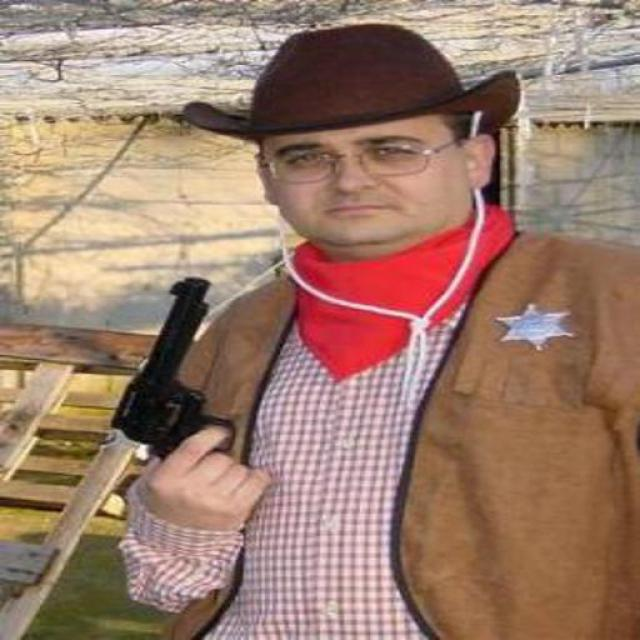pistol: (107, 272, 240, 460)
